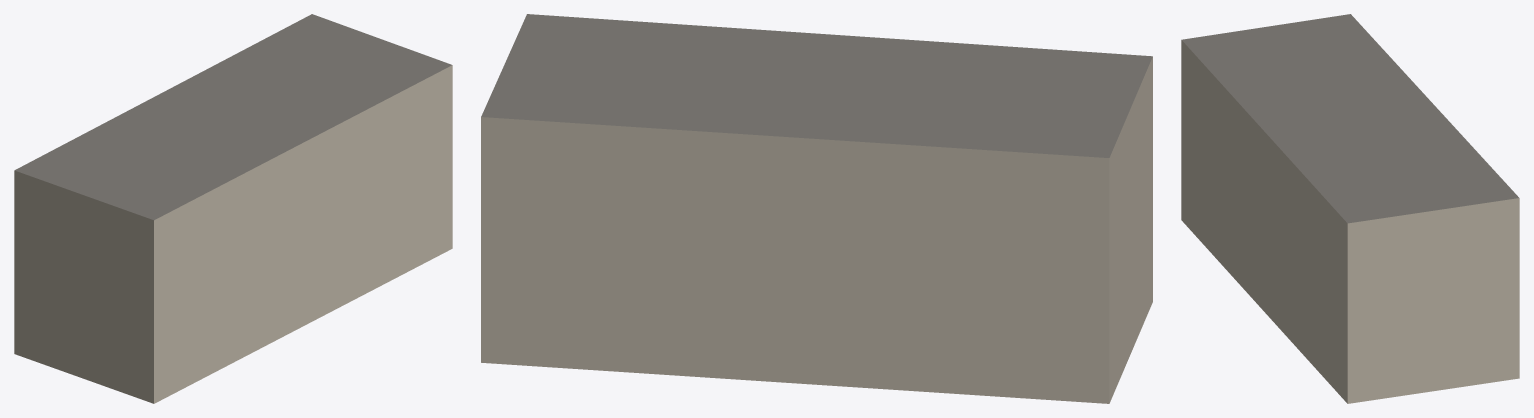
The picture shows the model from 3 angles, left to right: view 1: azimuth 30°, elevation 25°; view 2: azimuth 150°, elevation 25°; view 3: azimuth 270°, elevation 25°; orthographic projection. The views are drawn at different scales.
Visible parts, largest first — view 1: HP-w505661362; view 2: HP-w505661362; view 3: HP-w505661362.
Part boxes in pixels (box(x1,y1,x2,y2)): HP-w505661362: box(14, 14, 452, 403); HP-w505661362: box(481, 14, 1152, 403); HP-w505661362: box(1181, 14, 1519, 403).
Bounding box in the file's own units: 29.86 × 12 × 20.37.
